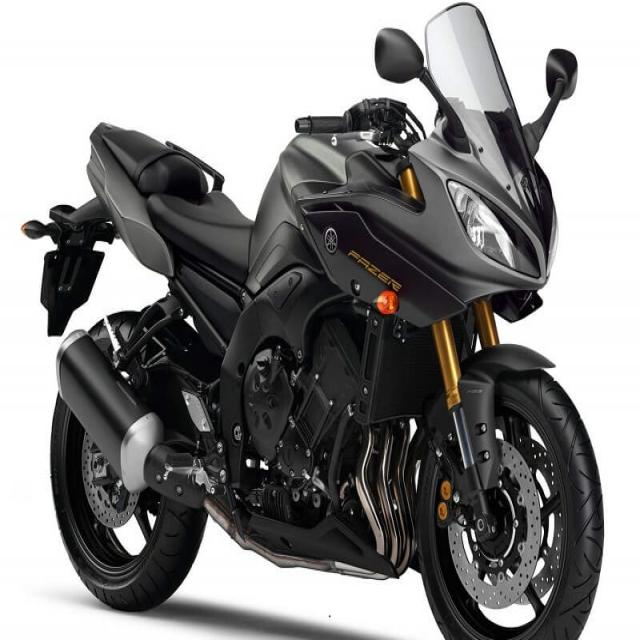Bike: (19, 1, 610, 640)
